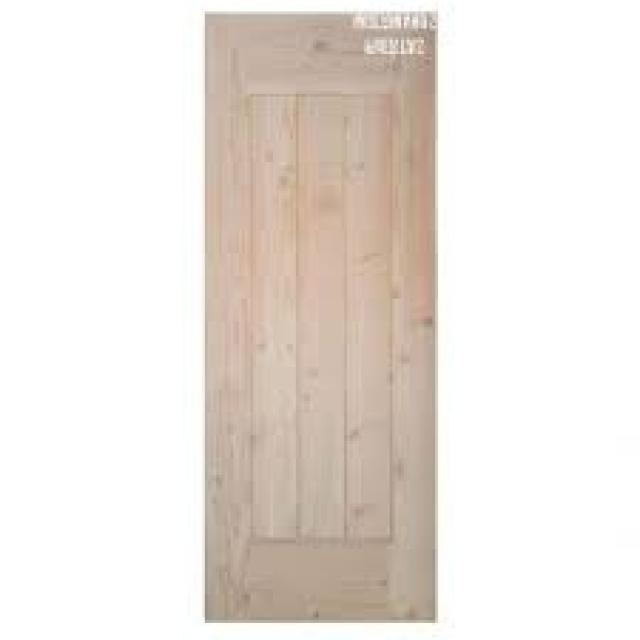door: (203, 13, 440, 624)
